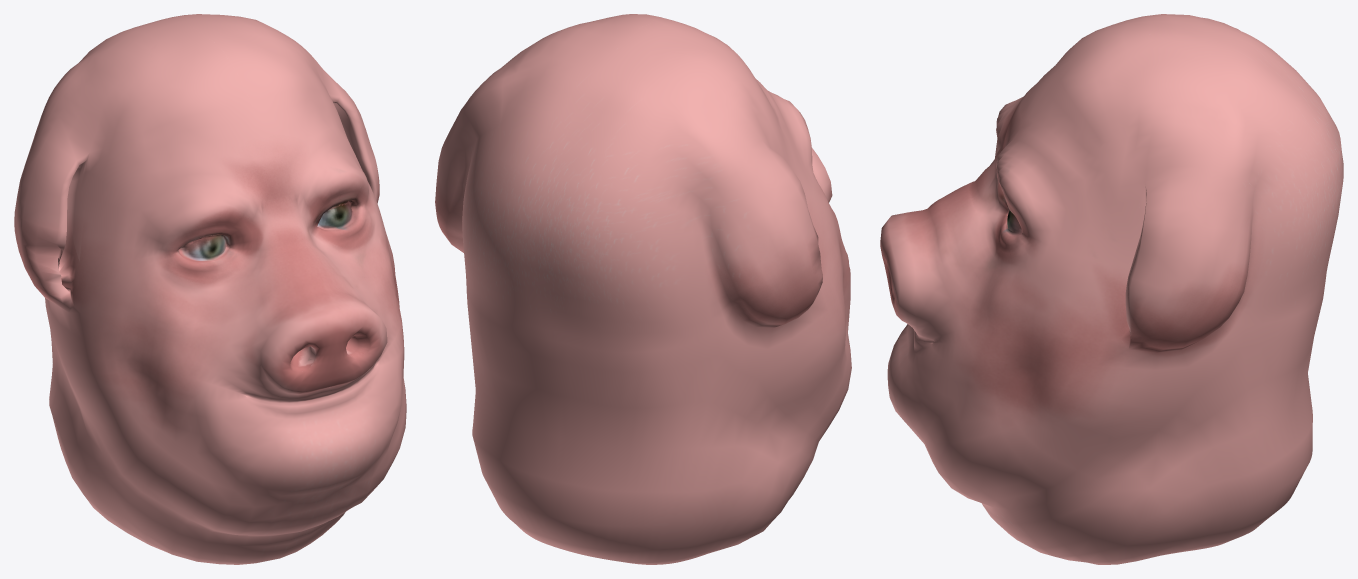
File: giga głowa porka.glb
3 renders of one model, left to right at view 1: azimuth 30°, elevation 25°; view 2: azimuth 150°, elevation 25°; view 3: azimuth 270°, elevation 25°, orthographic. The views are drawn at different scales.
Parts seen in each view (by area): view 1: polySurface1; view 2: polySurface1; view 3: polySurface1.
Part boxes in pixels (<box>): polySurface1: <box>14,14,406,564</box>; polySurface1: <box>435,14,851,564</box>; polySurface1: <box>880,14,1343,564</box>.
Size of the model in its own units: 10.03 by 13.43 by 11.27.
Materials: 1 (1 with a texture image).
